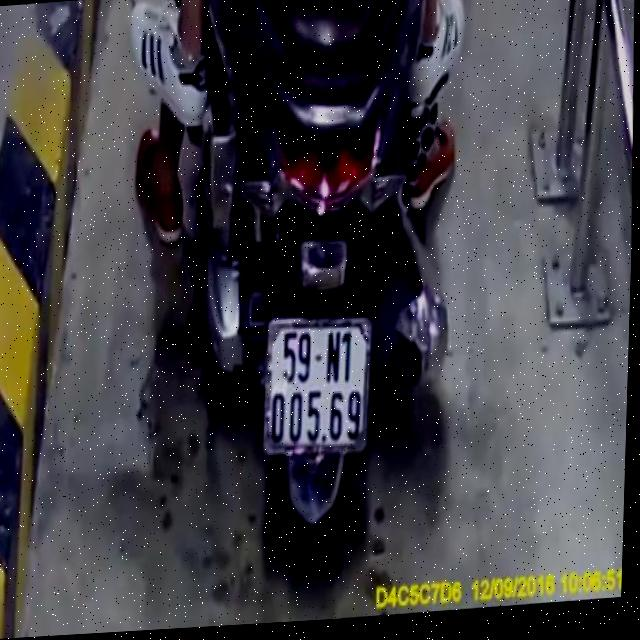motorcycle: (178, 0, 474, 579)
plate: (255, 308, 373, 463)
